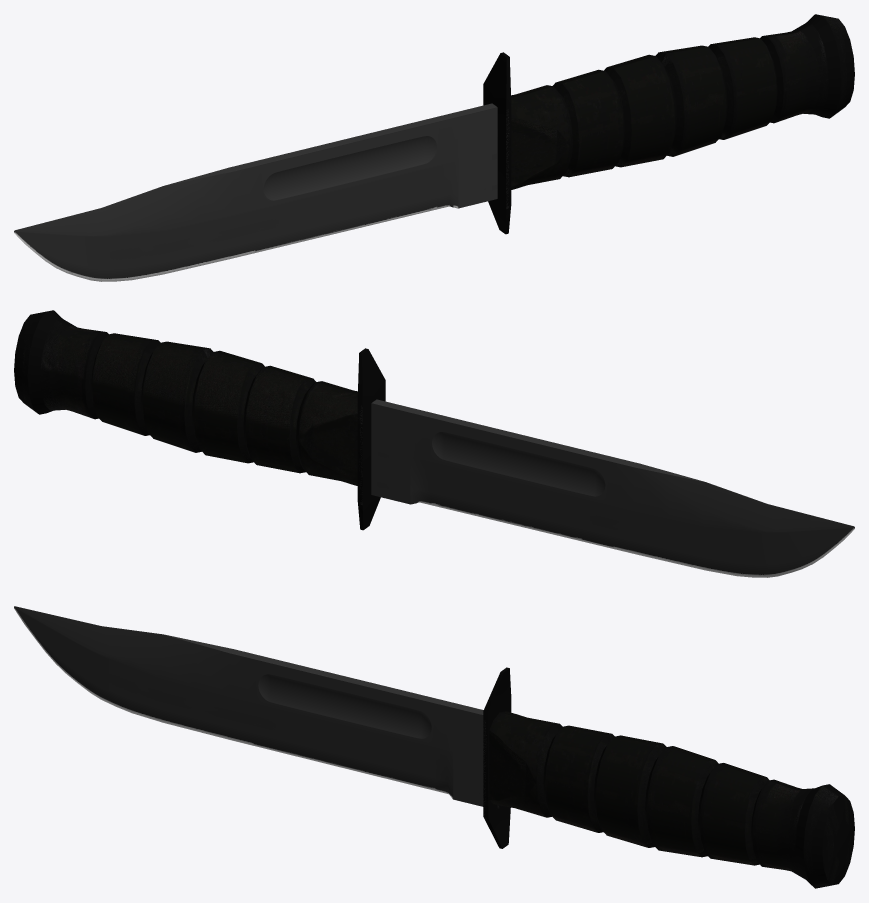
The model's file is Knife.glb.
3 renders of one model, top to bottom at view 1: azimuth 30°, elevation 25°; view 2: azimuth 150°, elevation 25°; view 3: azimuth 330°, elevation 25°, orthographic.
Parts seen in each view (by area): view 1: knife_mesh; view 2: knife_mesh; view 3: knife_mesh.
Boxes of the visible parts, x1,y1,x2,y2 form: knife_mesh: (14, 14, 854, 281); knife_mesh: (14, 310, 854, 577); knife_mesh: (14, 606, 854, 888).
Bounding box in the file's own units: 4.94 × 1.01 × 0.3906.
1 material, 1 textured.
